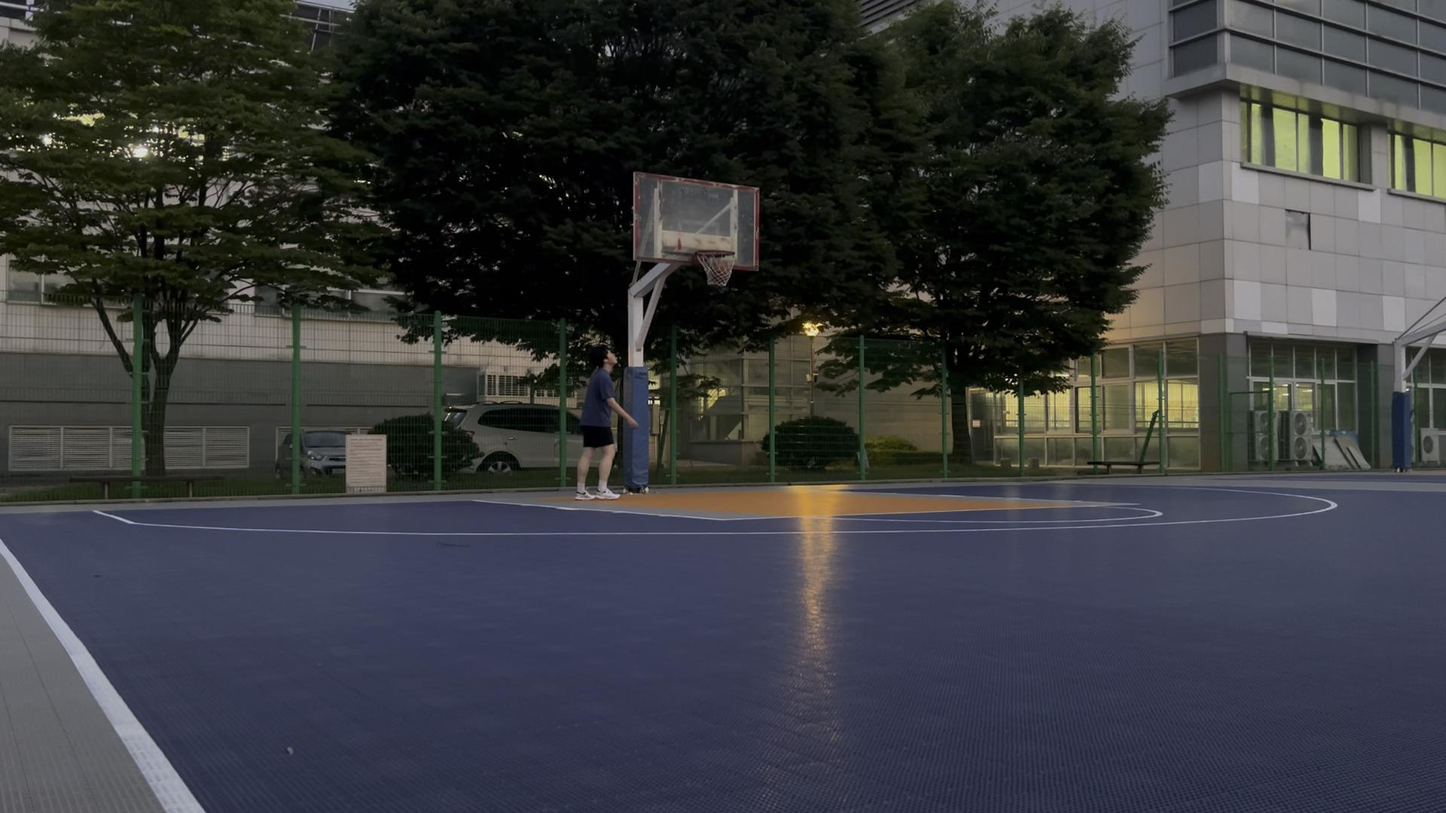ball: (710, 263, 731, 283)
human: (573, 345, 639, 502)
rim: (694, 249, 735, 287)
